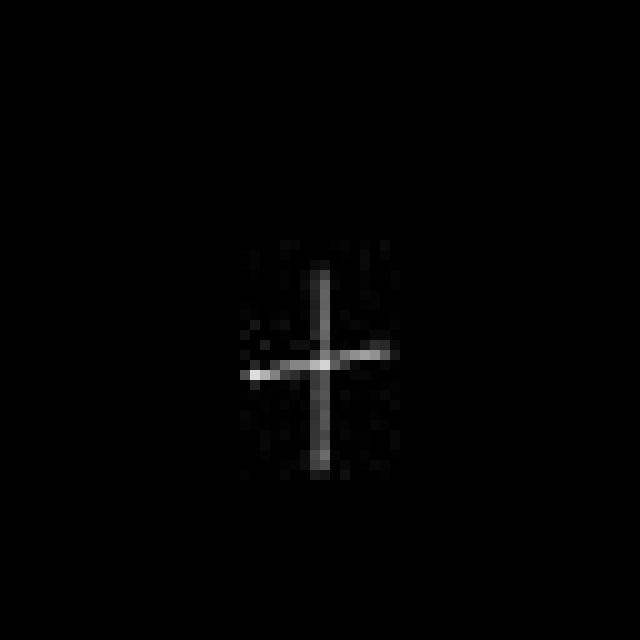10 -ten-: (245, 263, 395, 483)
